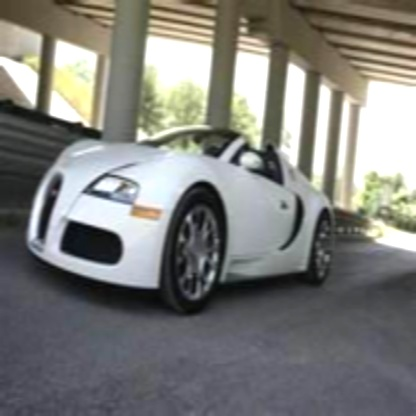Vehicle: (30, 125, 337, 293)
